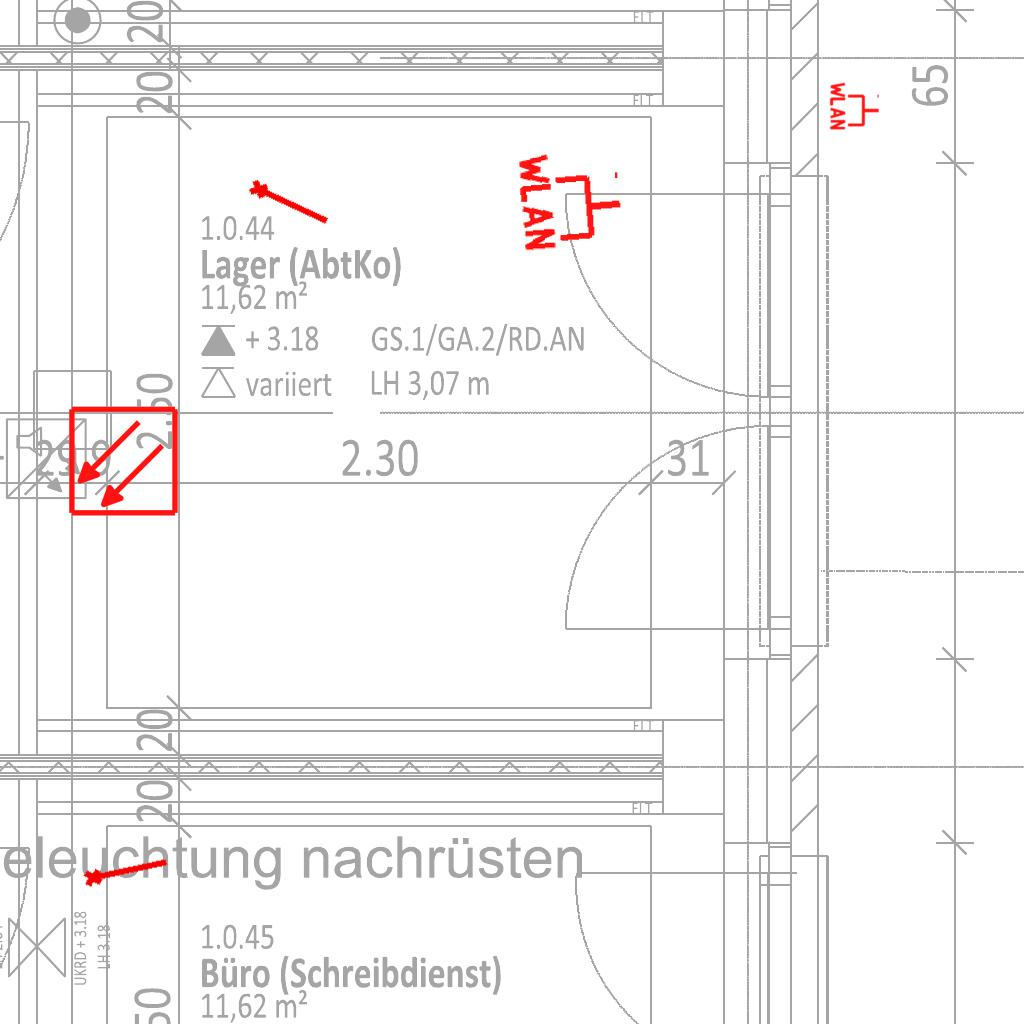ASR_Ansaugoeffnung: (245, 173, 335, 232), (80, 849, 172, 890)
RMO_Rauchmelder_optischer: (67, 405, 180, 518)
WLAN: (514, 142, 629, 256), (829, 80, 881, 132)
